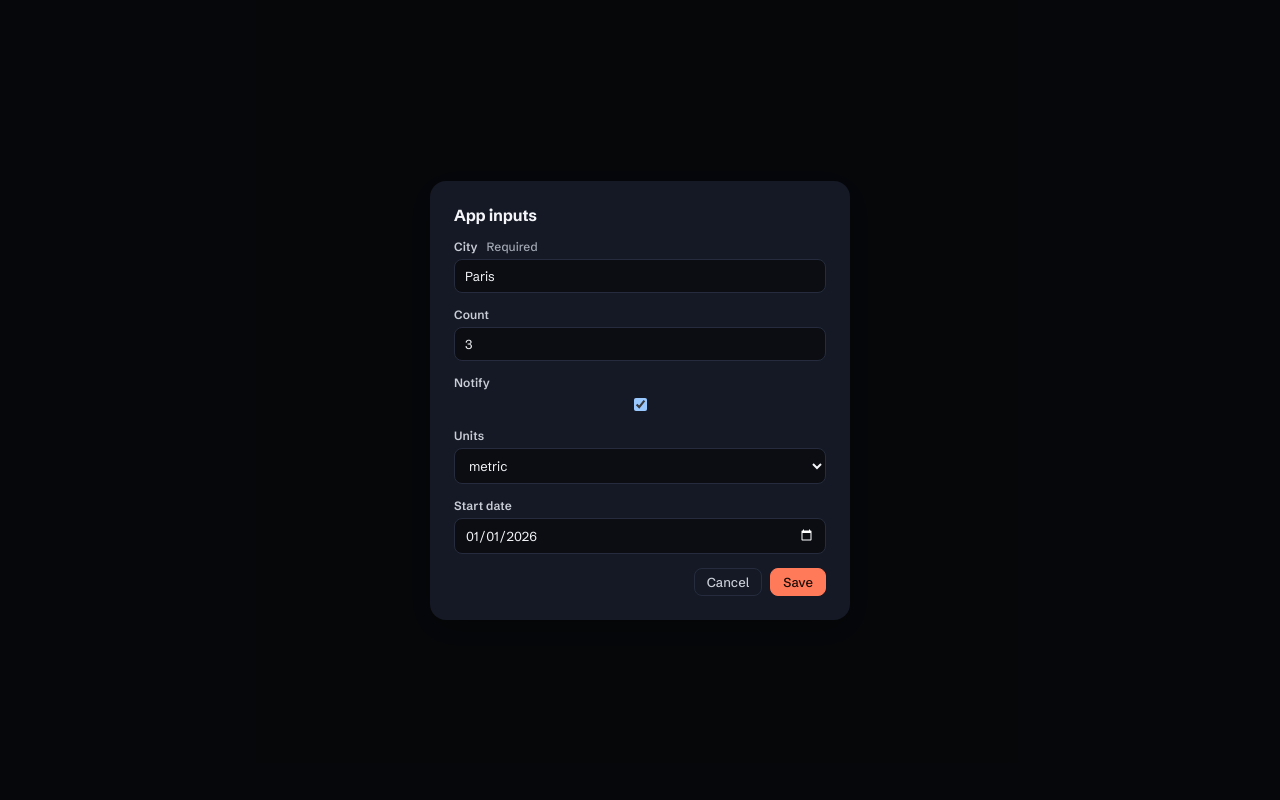
Test: AppInputsDialog › shows a Rust "invalid: …" rejection inline and keeps the dialog open
Click the button "Save" at (798,582), box [770, 568, 826, 596]
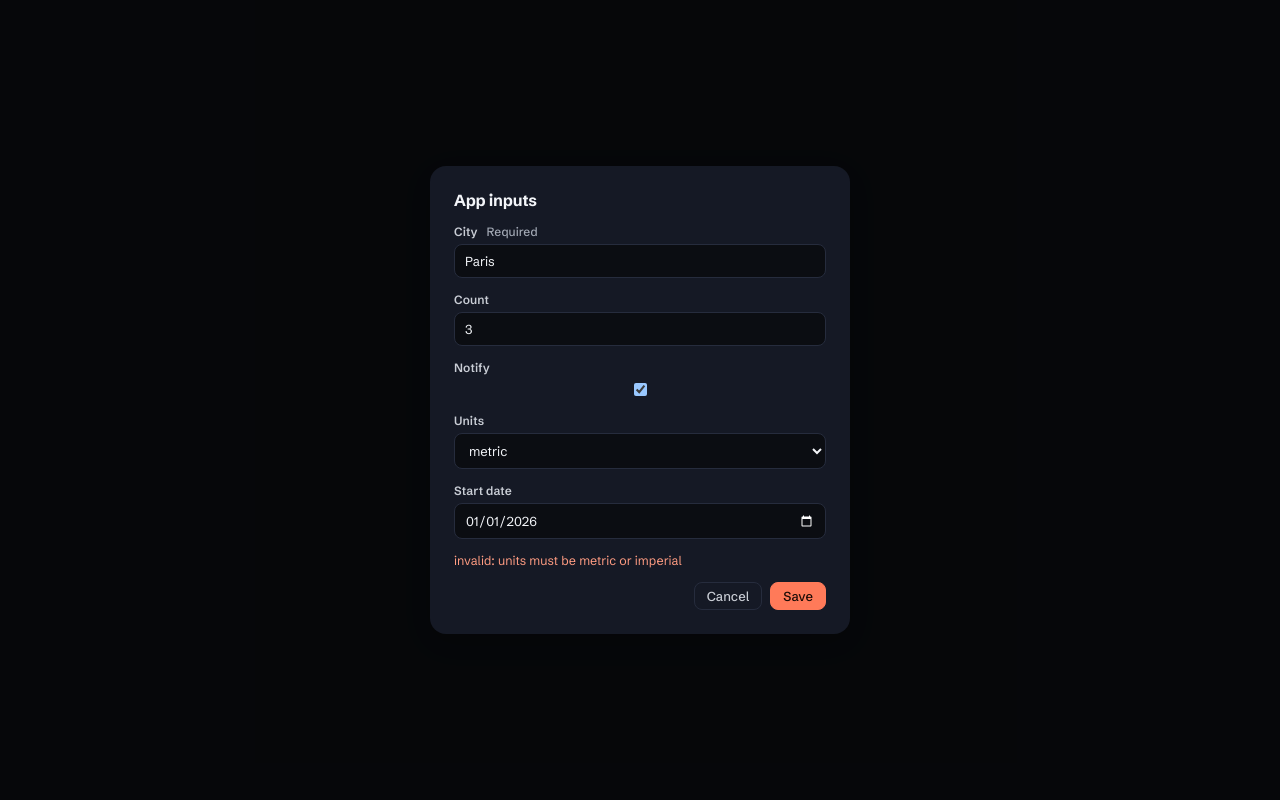
Expected: the message reads "invalid: units must be metric or imperial", [454, 553, 682, 568]
